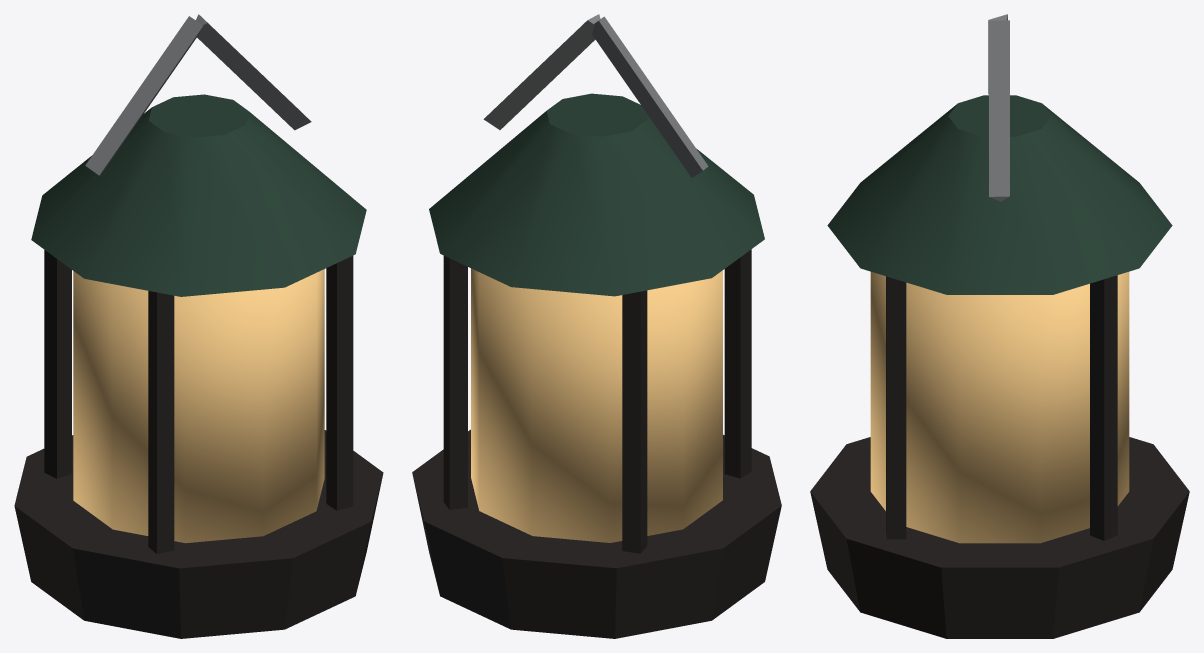
File: lantern.glb
3 views of the same model, side by side, from view 1: azimuth 30°, elevation 25°; view 2: azimuth 150°, elevation 25°; view 3: azimuth 270°, elevation 25° (orthographic).
Parts seen in each view (by area): view 1: lantern; view 2: lantern; view 3: lantern.
Boxes of the visible parts, x1,y1,x2,y2 form: lantern: [14, 14, 383, 638]; lantern: [412, 14, 781, 638]; lantern: [810, 14, 1189, 638].
Size of the model in its own units: 0.2092 by 0.3534 by 0.22.
